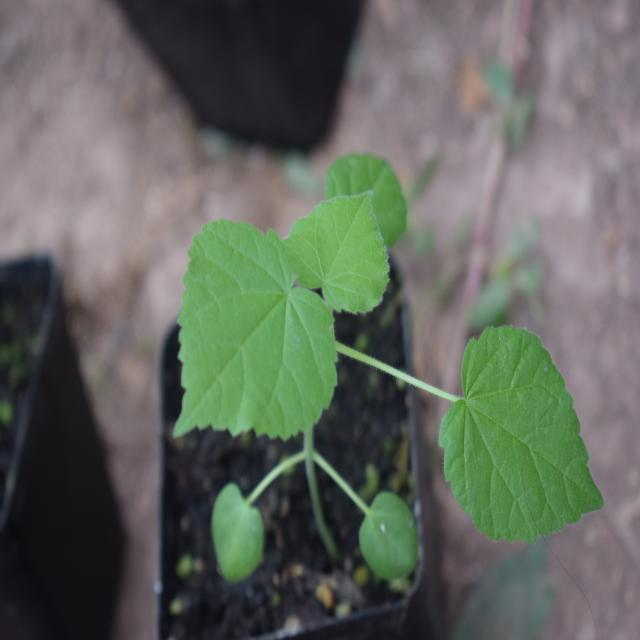abutilon theophrasti: (144, 155, 615, 566)
